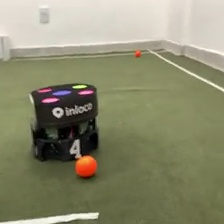ball: (73, 153, 99, 179), (134, 48, 142, 57)
robot: (27, 81, 100, 164)
